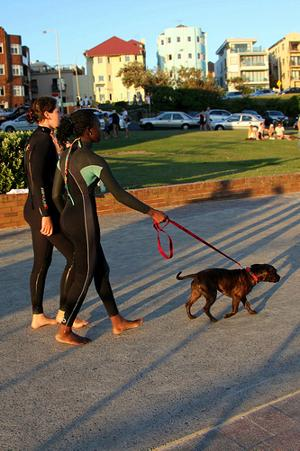person: (53, 108, 168, 349)
